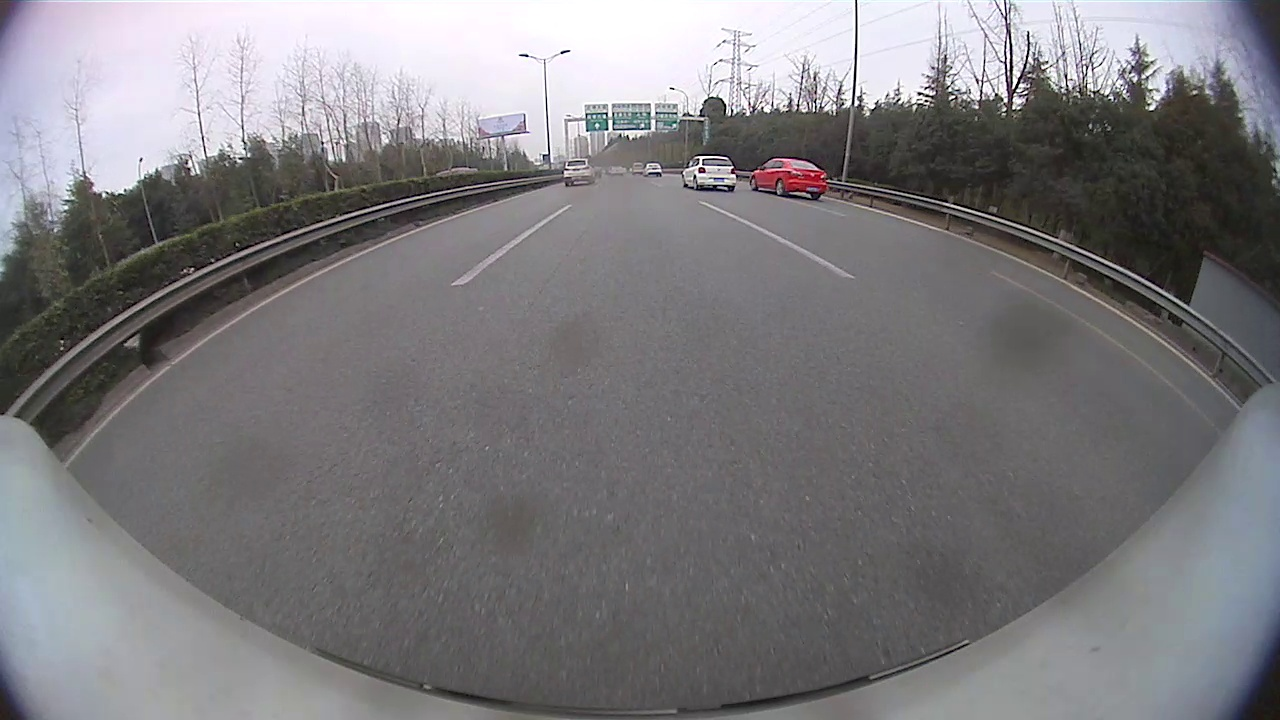car: (749, 156, 827, 200), (679, 154, 737, 192), (562, 157, 597, 185)
front: (750, 178, 757, 192)
rear: (776, 181, 786, 197)
